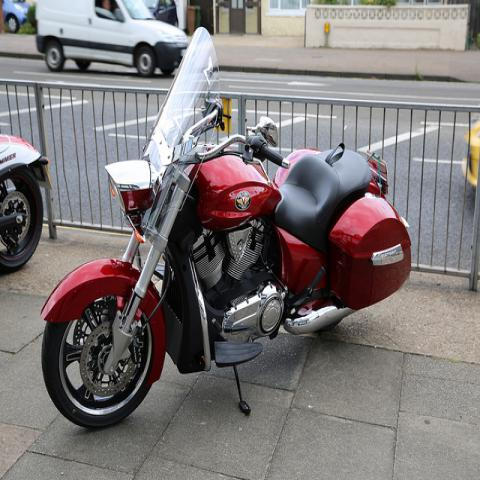car: (460, 116, 479, 194), (141, 0, 179, 27), (2, 0, 30, 32)
motorcycle: (40, 28, 412, 433), (0, 133, 53, 275)
truck: (34, 0, 190, 77)
